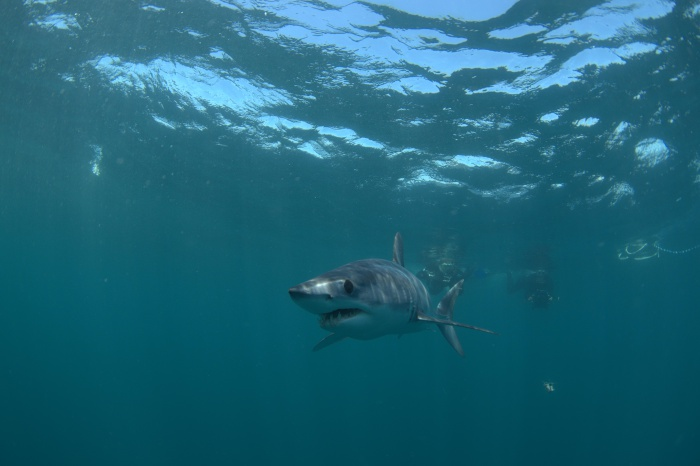Mako: (271, 218, 507, 381)
